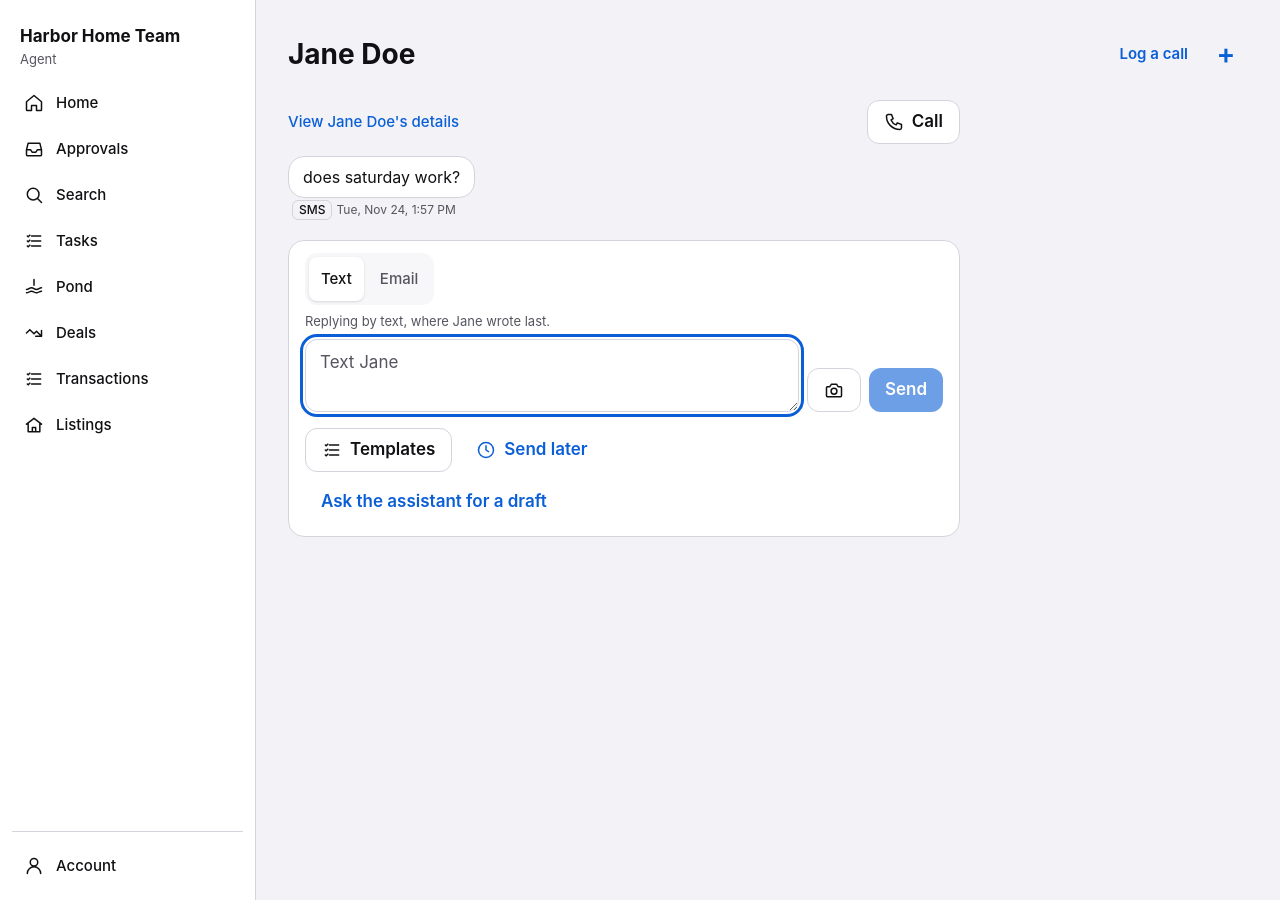
Test: Thread › a human text carries one idempotency key; an automatic retry after a dropped connection reuses it
In the text box named "Text message": (552, 375) [305, 339, 799, 412], type "On my way"
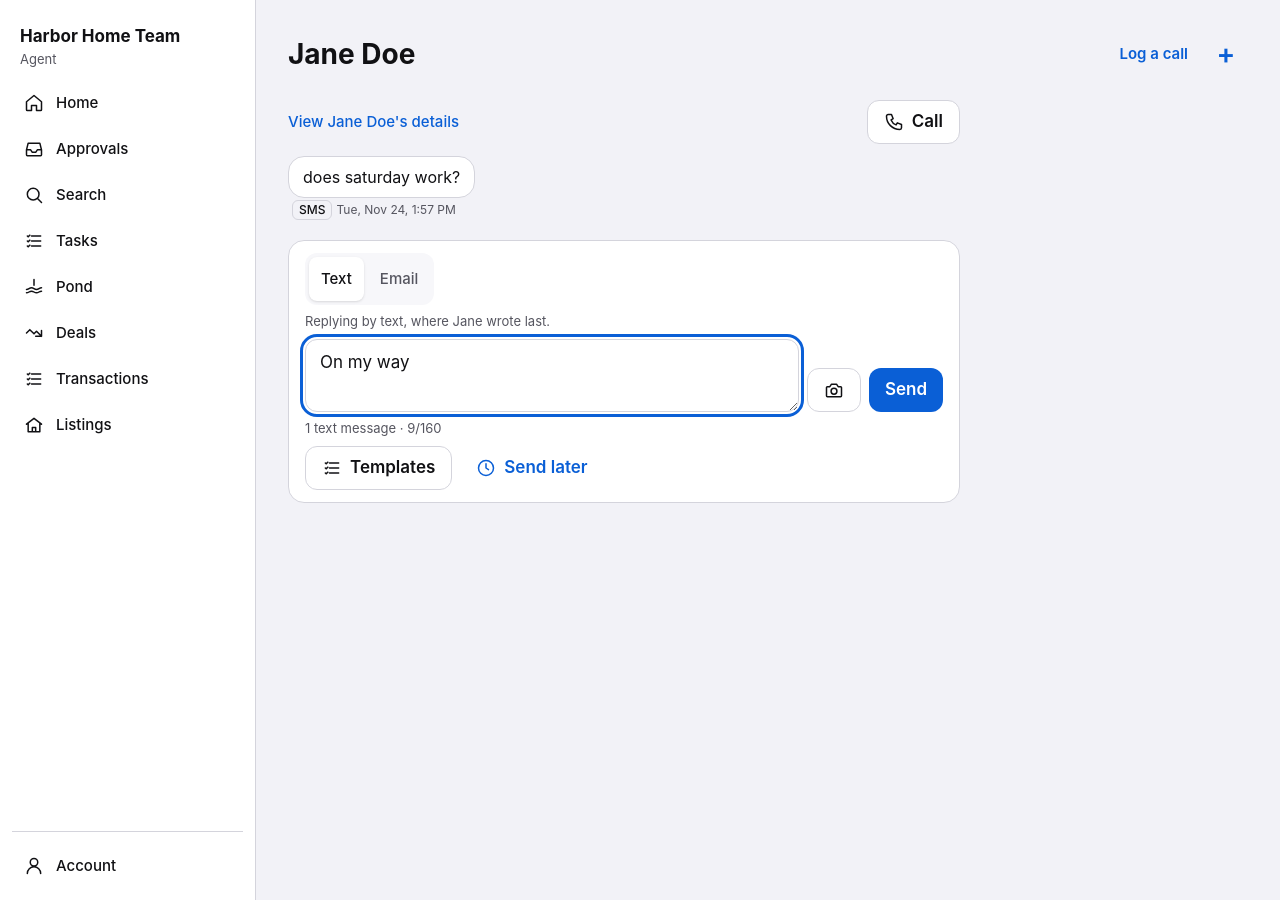
Click the button "Send": click(906, 390) [869, 368, 943, 412]
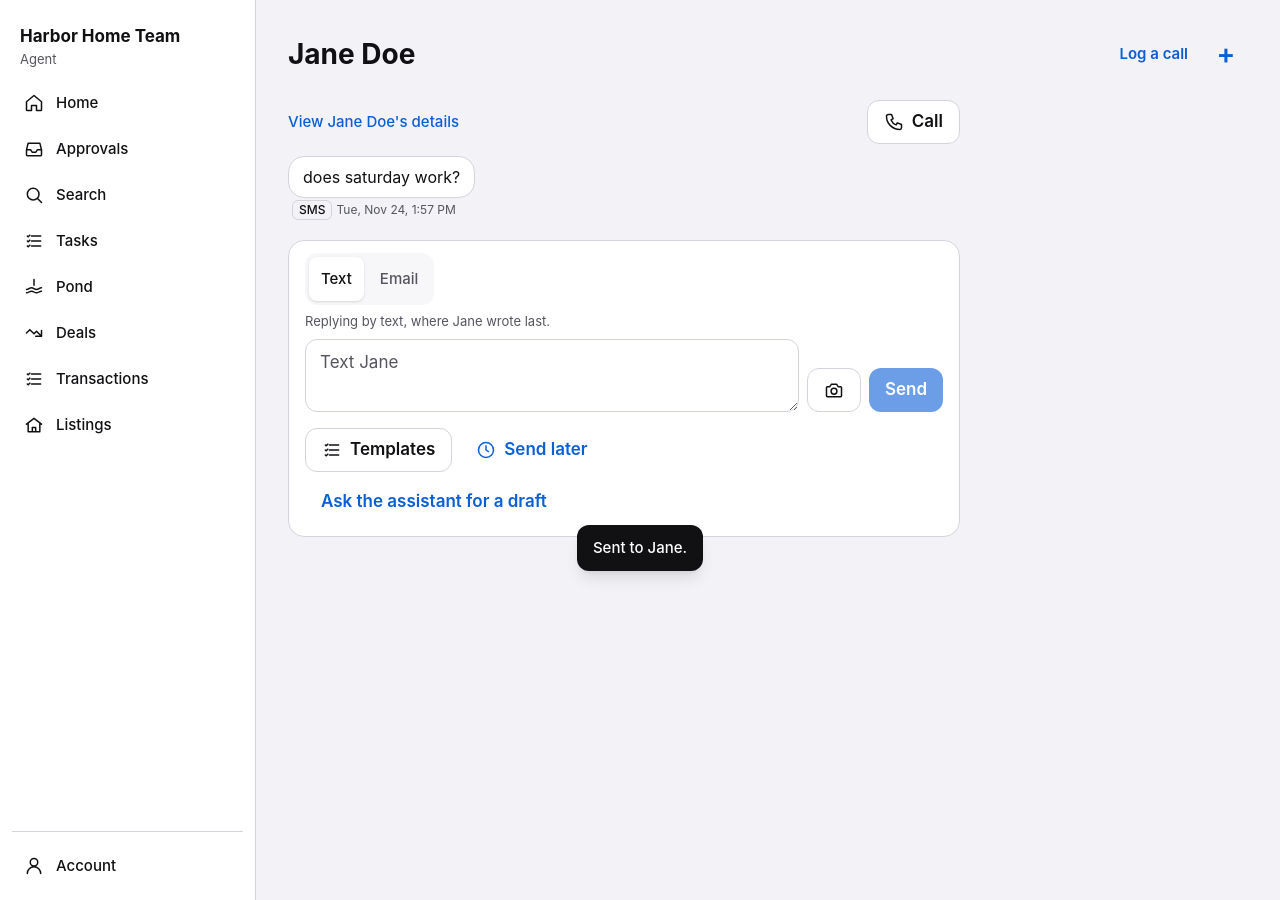
Check: the text "Sent to Jane." is shown, box [577, 524, 703, 571]
Check: the text box named "Text message" is empty, box [305, 339, 799, 412]
